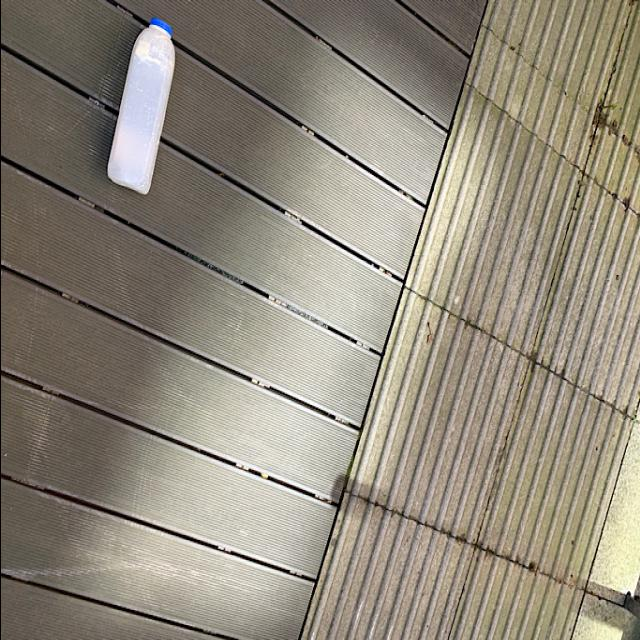litter: (103, 16, 179, 202)
